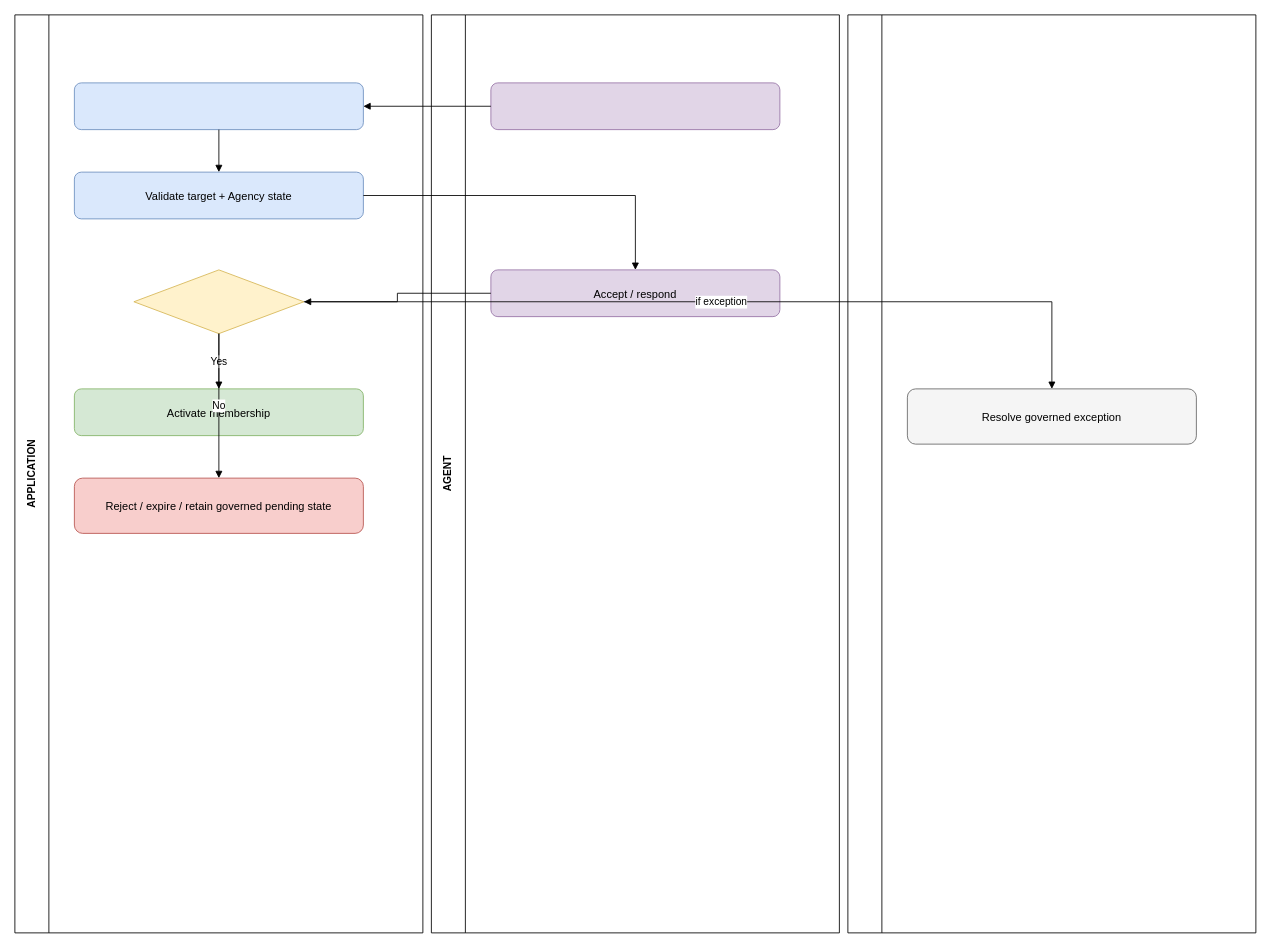
Image size: 1271x948. Some labels were removed from this diagram. Each missing label, with the box of its shape:
ADMIN: (847, 14, 1256, 933)
Can membership activate?: (133, 269, 304, 334)
Create invitation / join request: (74, 82, 363, 130)
Invite or request to join: (490, 82, 780, 130)
